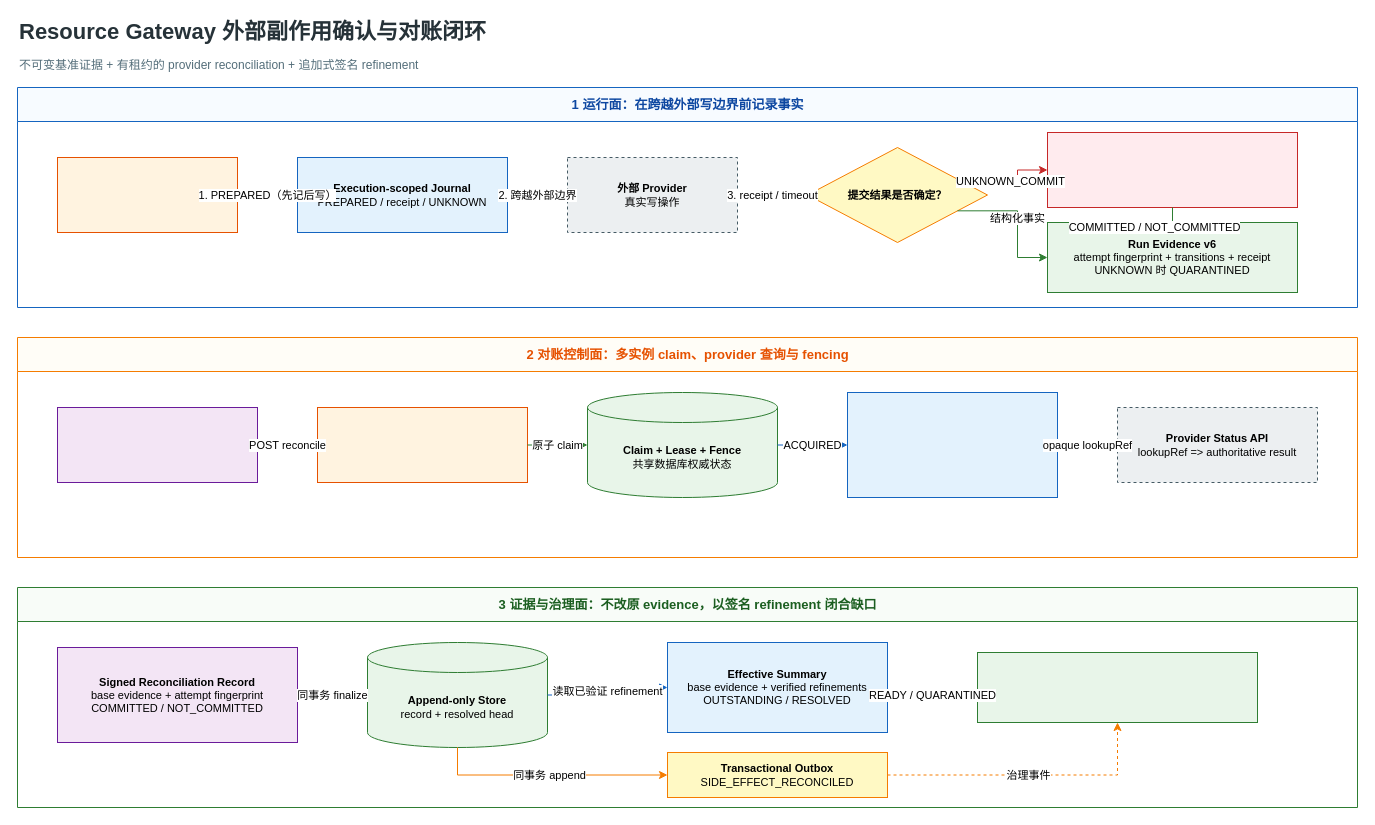
This 1375x825 diagram has some shape labels left out. Each missing label, with the centre of its shape:
"ANEKE / 运维工作流 提交 expected fingerprints" goes at (x=157, y=444).
"ANEKE Publish Gate READY 或继续 QUARANTINED" goes at (x=1117, y=687).
"DAG Guard UNKNOWN => NonRetryable 阻断 fallback 与下游传播" goes at (x=1172, y=170).
"Operator Adapter beginSideEffect(...)" goes at (x=147, y=194).
"Reconciliation API 校验 tenant / purpose / snapshot" goes at (x=422, y=444).
"SideEffectReconciler SPI 20s bounded call 仅查询，不重放写操作" goes at (x=952, y=445).
